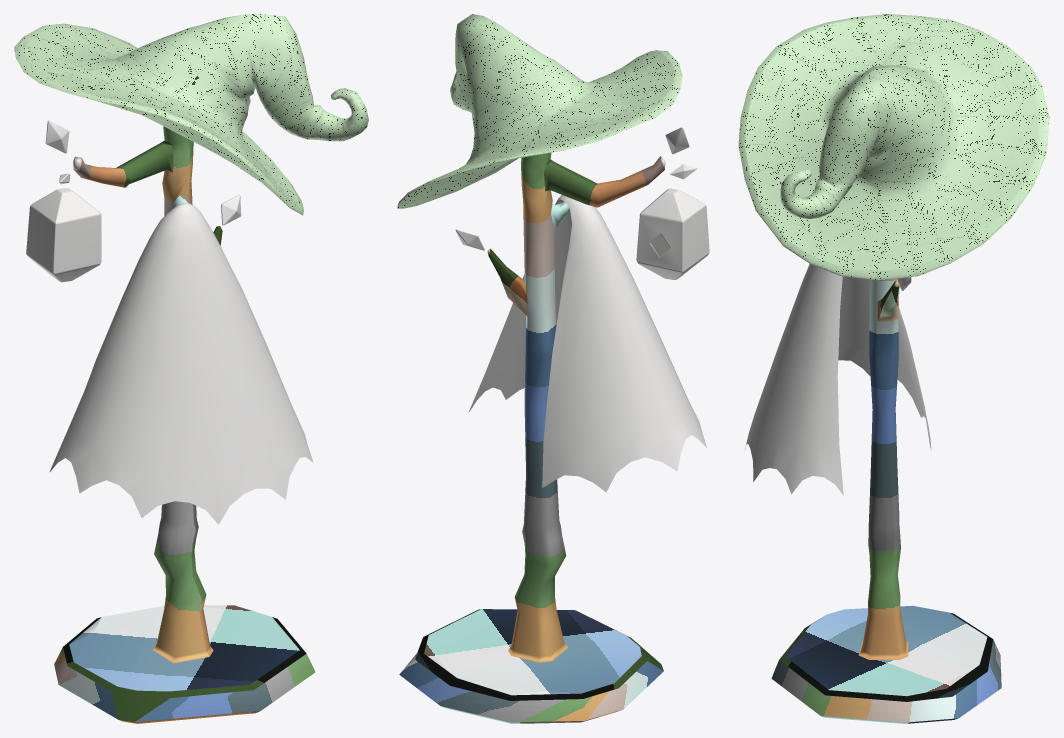
Rendered from CharSkyKid_Prop_MischiefCoatRack.glb.
The picture shows the model from 3 angles, left to right: view 1: azimuth 30°, elevation 25°; view 2: azimuth 150°, elevation 25°; view 3: azimuth 270°, elevation 25°; orthographic projection. The views are drawn at different scales.
Parts seen in each view (by area): view 1: CharSkyKid_Prop_MischiefCoatRack; view 2: CharSkyKid_Prop_MischiefCoatRack; view 3: CharSkyKid_Prop_MischiefCoatRack.
Part boxes in pixels (bbox=[...]): CharSkyKid_Prop_MischiefCoatRack: bbox=[14, 14, 368, 723]; CharSkyKid_Prop_MischiefCoatRack: bbox=[397, 14, 709, 723]; CharSkyKid_Prop_MischiefCoatRack: bbox=[738, 14, 1049, 723].
Size of the model in its own units: 0.6386 by 1.39 by 0.6296.
1 material, 1 textured.
